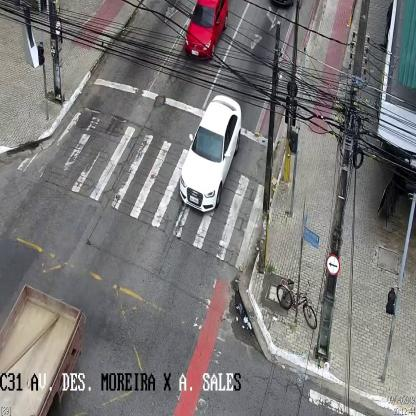bicycle: (276, 280, 316, 330)
car: (180, 92, 240, 214), (183, 1, 227, 60)
